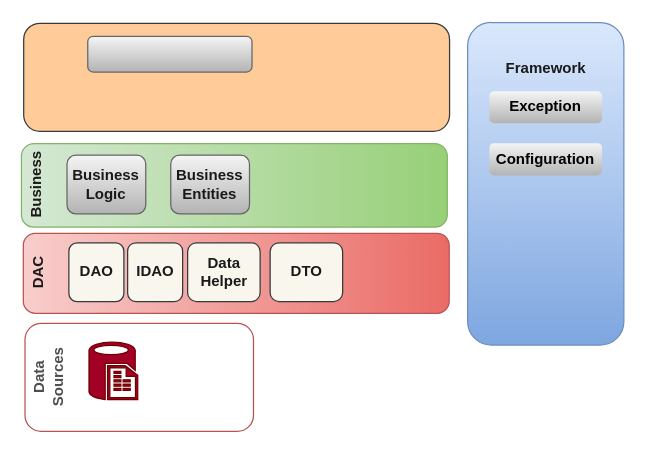
Image size: 646x454. Some labels were removed from this diagram. The shapes that lost their labels are listed below. From the top down, each one's centre as x and y in pixels, then its label:
the point at 169,53: UI Component
the point at 236,76: User Interface
the point at 113,370: SQLITE
